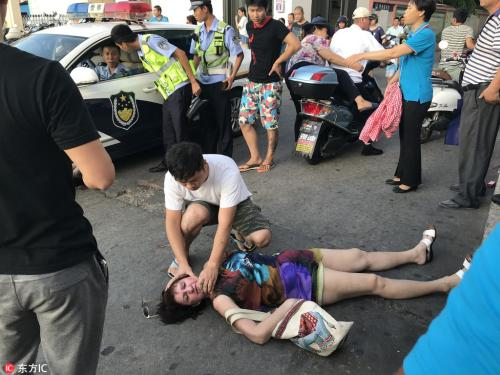10+: (1, 4, 500, 365)
down: (146, 218, 492, 350)
